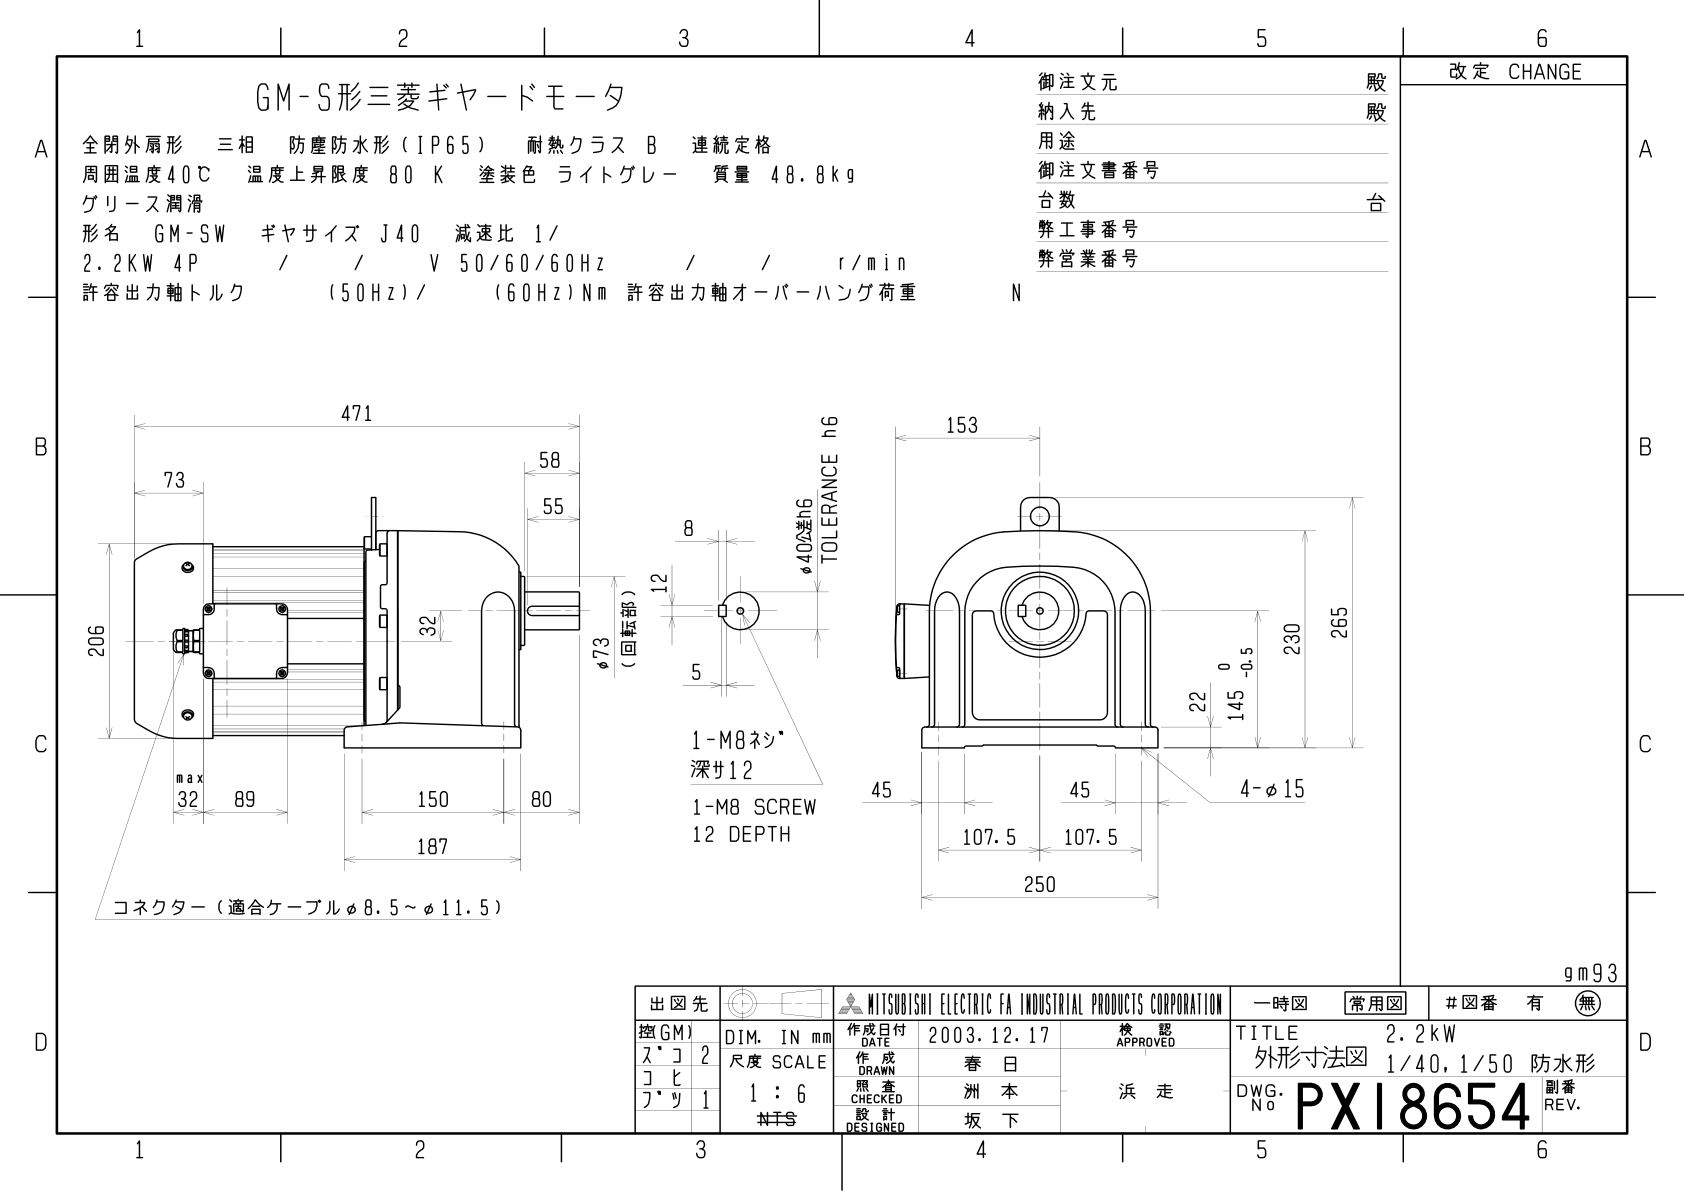GM_S_IP65＿三相_脚: (67, 335, 1379, 949)
